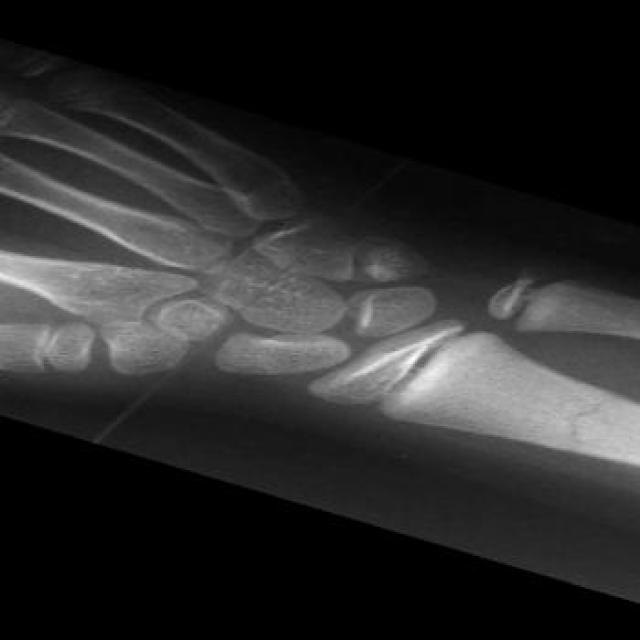Fracture: (536, 378, 635, 464)
